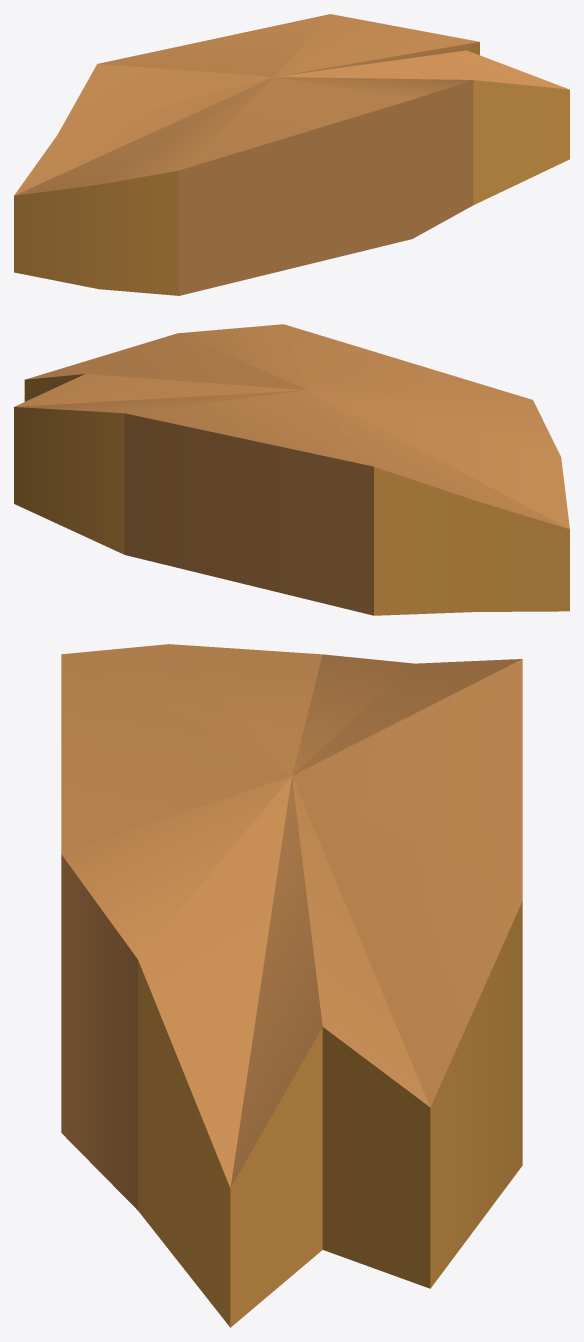
File: Astilla.fbx
The picture shows the model from 3 angles, top to bottom: view 1: azimuth 30°, elevation 25°; view 2: azimuth 150°, elevation 25°; view 3: azimuth 270°, elevation 25°; orthographic projection. The views are drawn at different scales.
Visible parts, largest first — view 1: Astilla; view 2: Astilla; view 3: Astilla.
Part boxes in pixels (<box>): Astilla: <box>14,14,569,295</box>; Astilla: <box>14,324,569,615</box>; Astilla: <box>61,644,522,1327</box>.
Bounding box in the file's own units: 0.8 × 0.2 × 0.3.
Materials: 1 (1 with a texture image).
